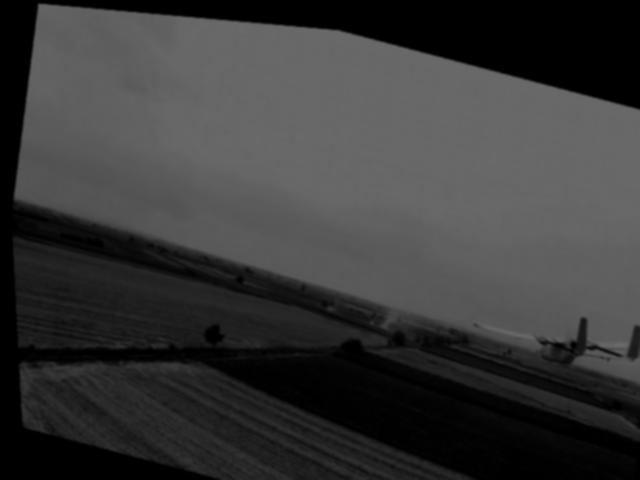hedef: (450, 261, 640, 391)
